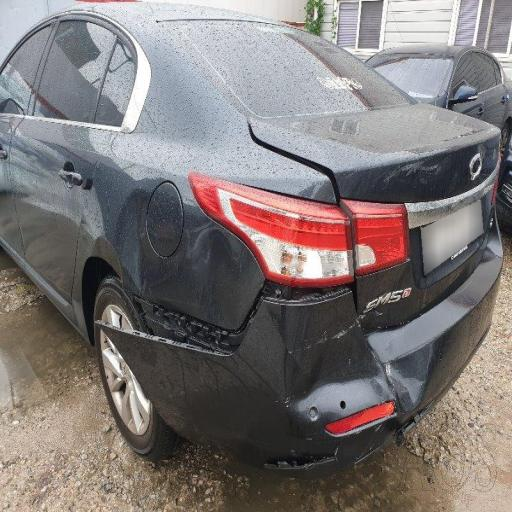broken: (85, 214, 300, 449)
scratch: (306, 264, 444, 356)
